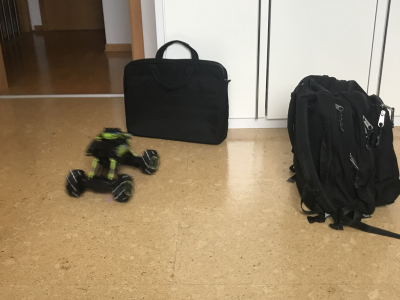remote control car: (64, 125, 160, 204)
